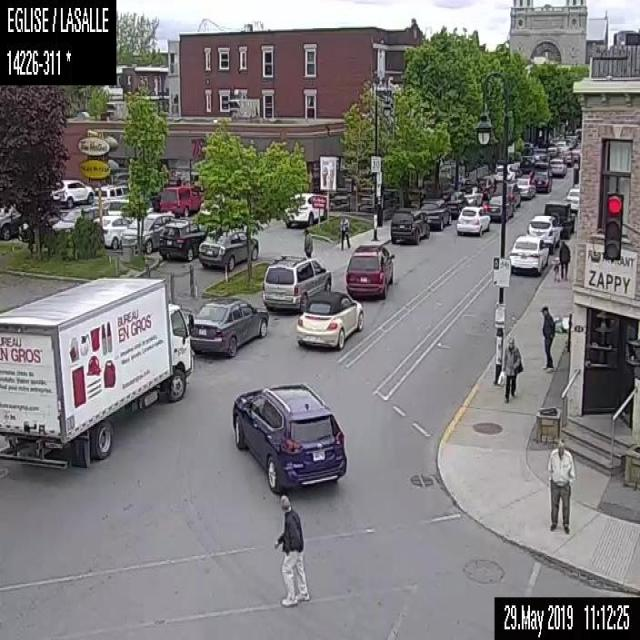pedestrian: (273, 493, 309, 608), (546, 437, 576, 532), (496, 337, 523, 404), (538, 303, 556, 372), (552, 240, 570, 281), (339, 215, 350, 249), (302, 227, 313, 256)
vehicle: (0, 272, 196, 468), (230, 382, 346, 494), (189, 296, 269, 360), (294, 289, 363, 352), (261, 253, 332, 313), (344, 243, 395, 300), (198, 226, 260, 268), (120, 210, 172, 254), (158, 220, 206, 261), (509, 233, 549, 276), (389, 204, 430, 244), (285, 190, 326, 226), (92, 214, 134, 248), (160, 184, 202, 216), (544, 199, 574, 238), (418, 196, 451, 231), (51, 178, 92, 206), (456, 203, 490, 236), (527, 214, 558, 249), (92, 182, 129, 206), (0, 204, 23, 240), (492, 180, 520, 208), (486, 193, 510, 222), (52, 207, 82, 230), (443, 190, 466, 218), (530, 167, 552, 194), (459, 182, 483, 205), (475, 174, 496, 198), (515, 175, 535, 199), (492, 161, 515, 181), (548, 158, 566, 179), (565, 185, 579, 212), (518, 154, 536, 172)
